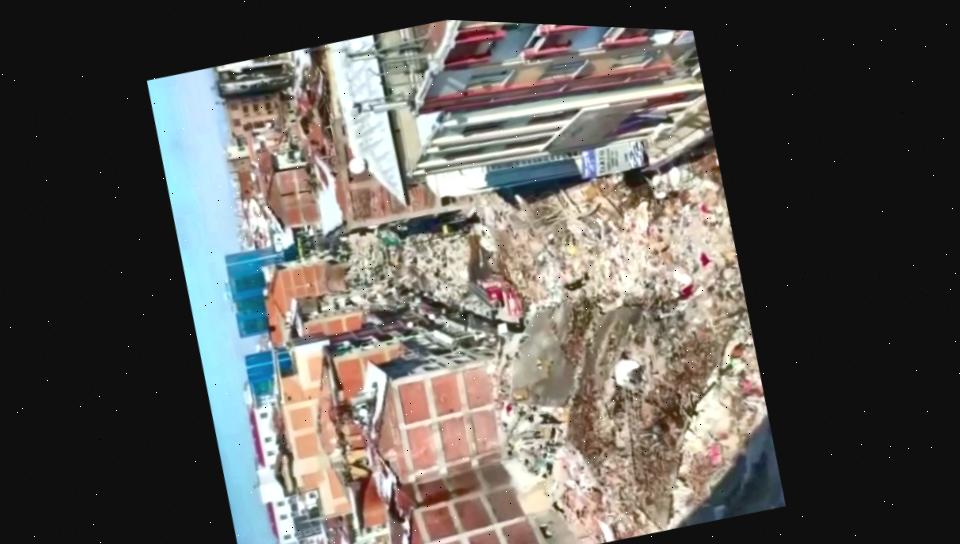kapali: (469, 132, 749, 327), (355, 224, 487, 317)
